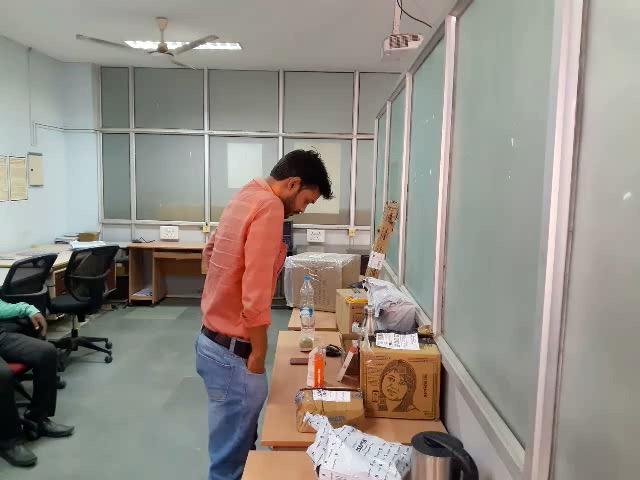shoplifting: (161, 311, 335, 428)
